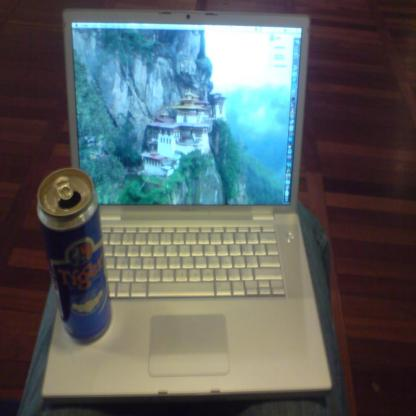board: (43, 10, 331, 393), (38, 169, 113, 345)
